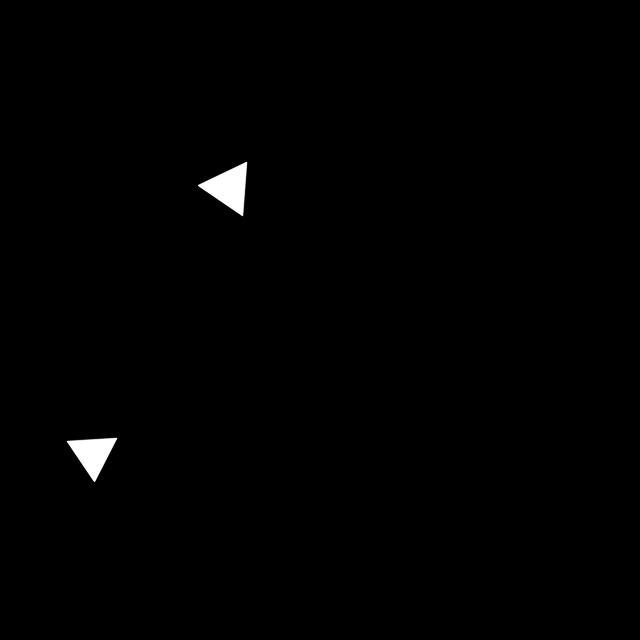Triangle: (186, 148, 263, 234), (57, 426, 126, 492)
